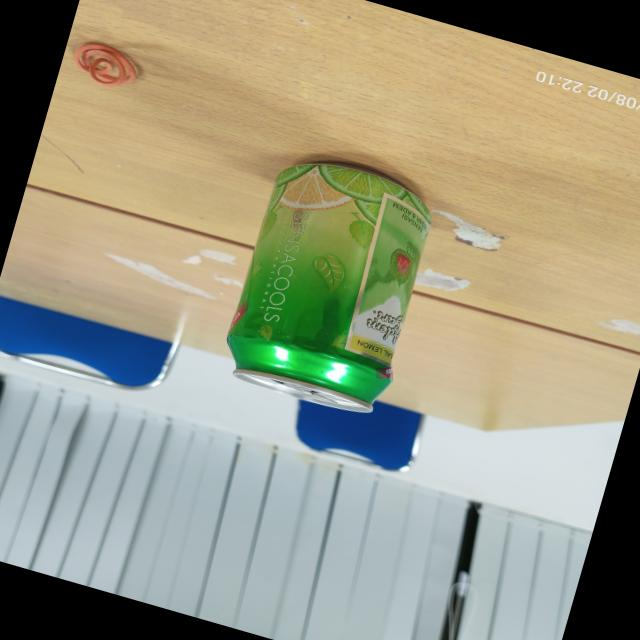ademsarikaleng: (214, 144, 447, 424)
